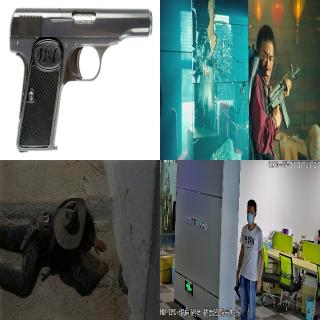gun: (7, 0, 154, 156), (268, 63, 304, 129), (116, 258, 130, 302), (233, 279, 241, 299)
